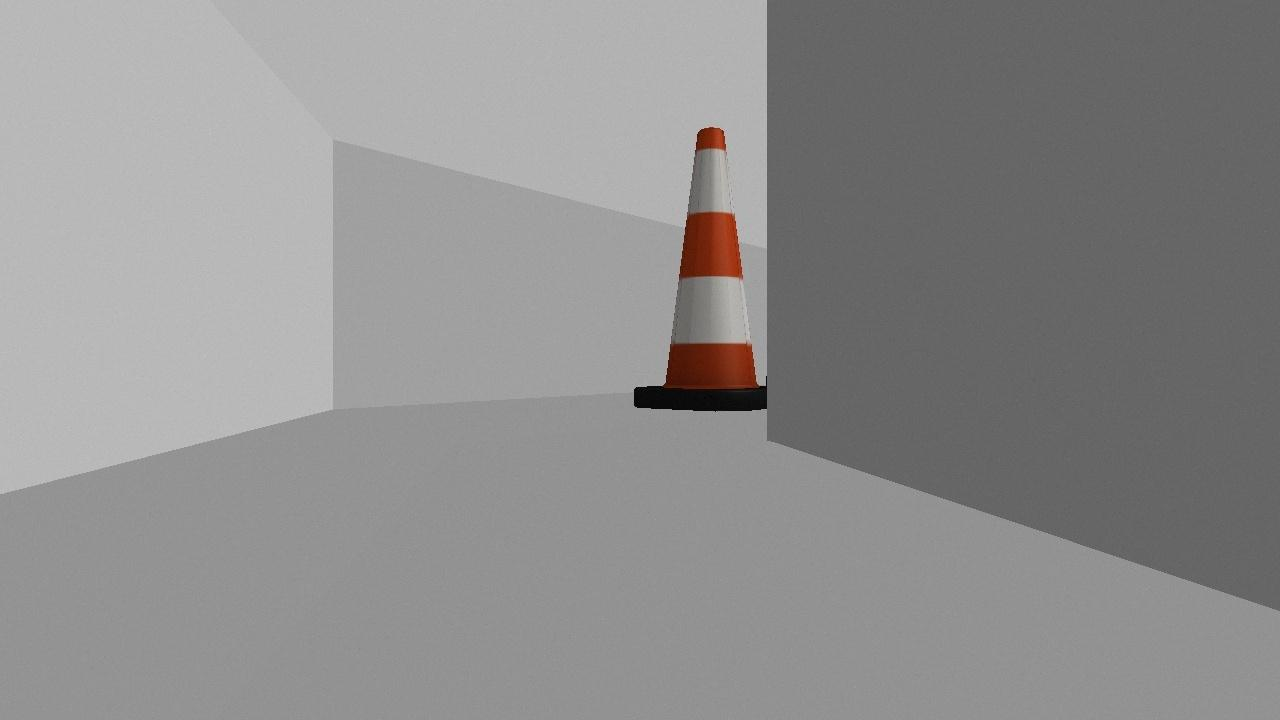cone_barrel: (632, 125, 783, 411)
